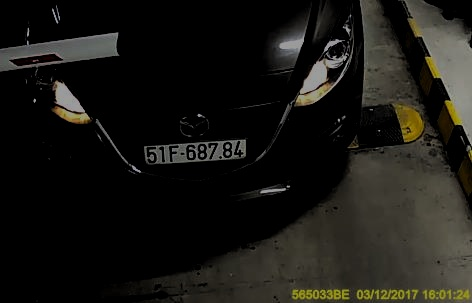plate: (139, 138, 248, 165)
